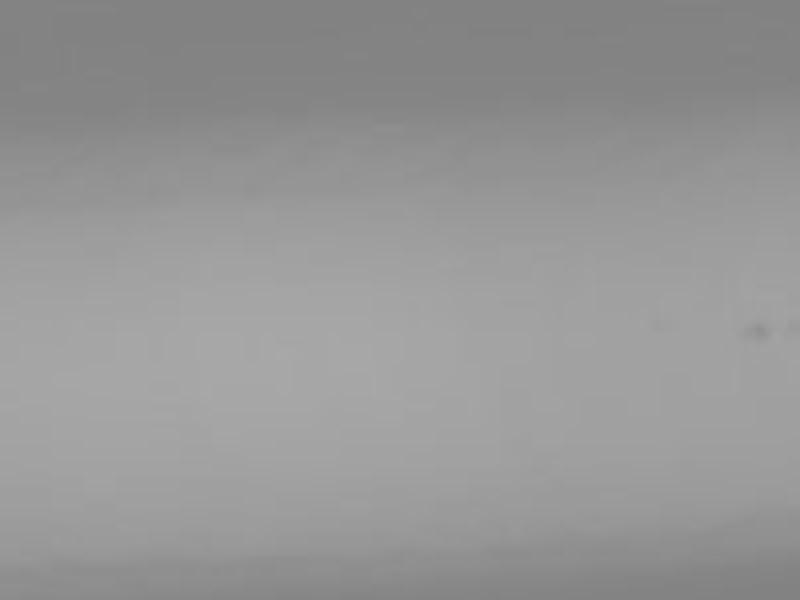defect: (742, 321, 768, 340)
